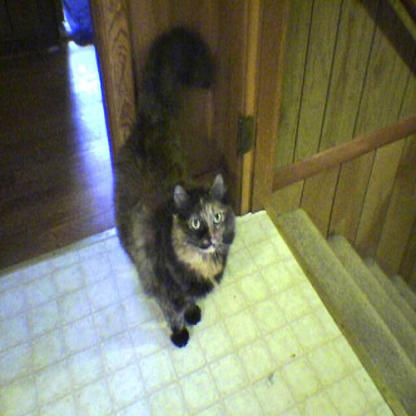cat: (112, 25, 236, 350)
